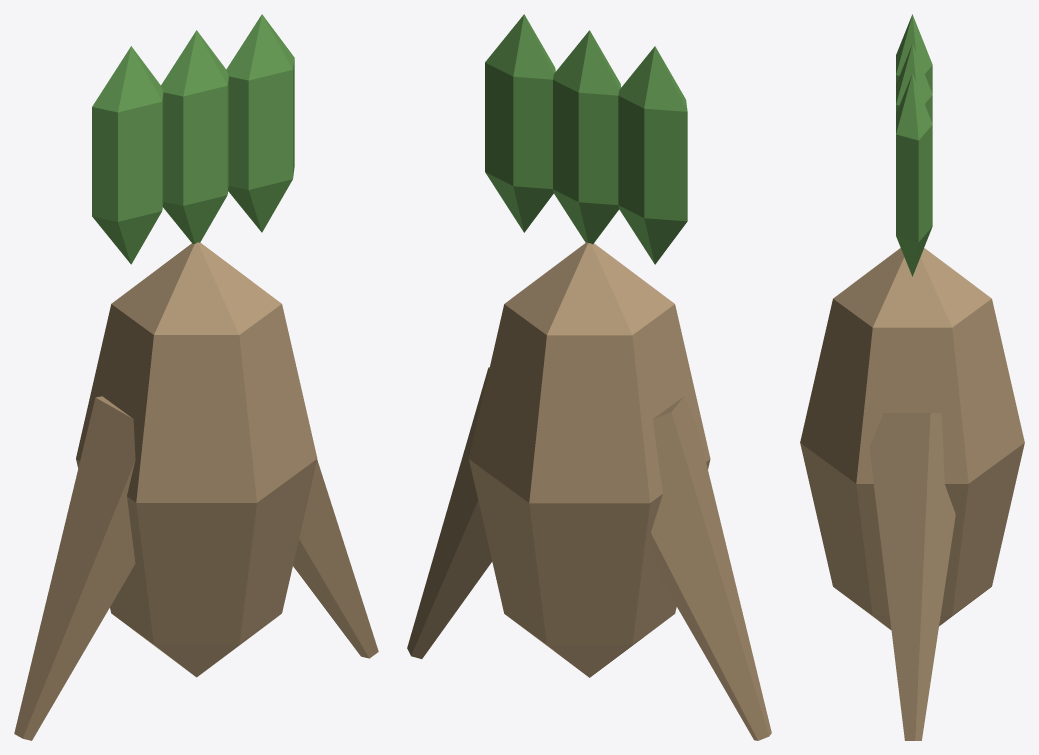
Rendered from raiz.glb.
3 views of the same model, side by side, from view 1: azimuth 30°, elevation 25°; view 2: azimuth 150°, elevation 25°; view 3: azimuth 270°, elevation 25° (orthographic). The views are drawn at different scales.
Visible parts, largest first — view 1: Cone; view 2: Cone; view 3: Cone.
Boxes of the visible parts, x1=… form: Cone: x1=14, y1=14, x2=378, y2=740; Cone: x1=407, y1=14, x2=771, y2=740; Cone: x1=800, y1=14, x2=1024, y2=740.
Size of the model in its own units: 0.1661 by 0.293 by 0.096.
